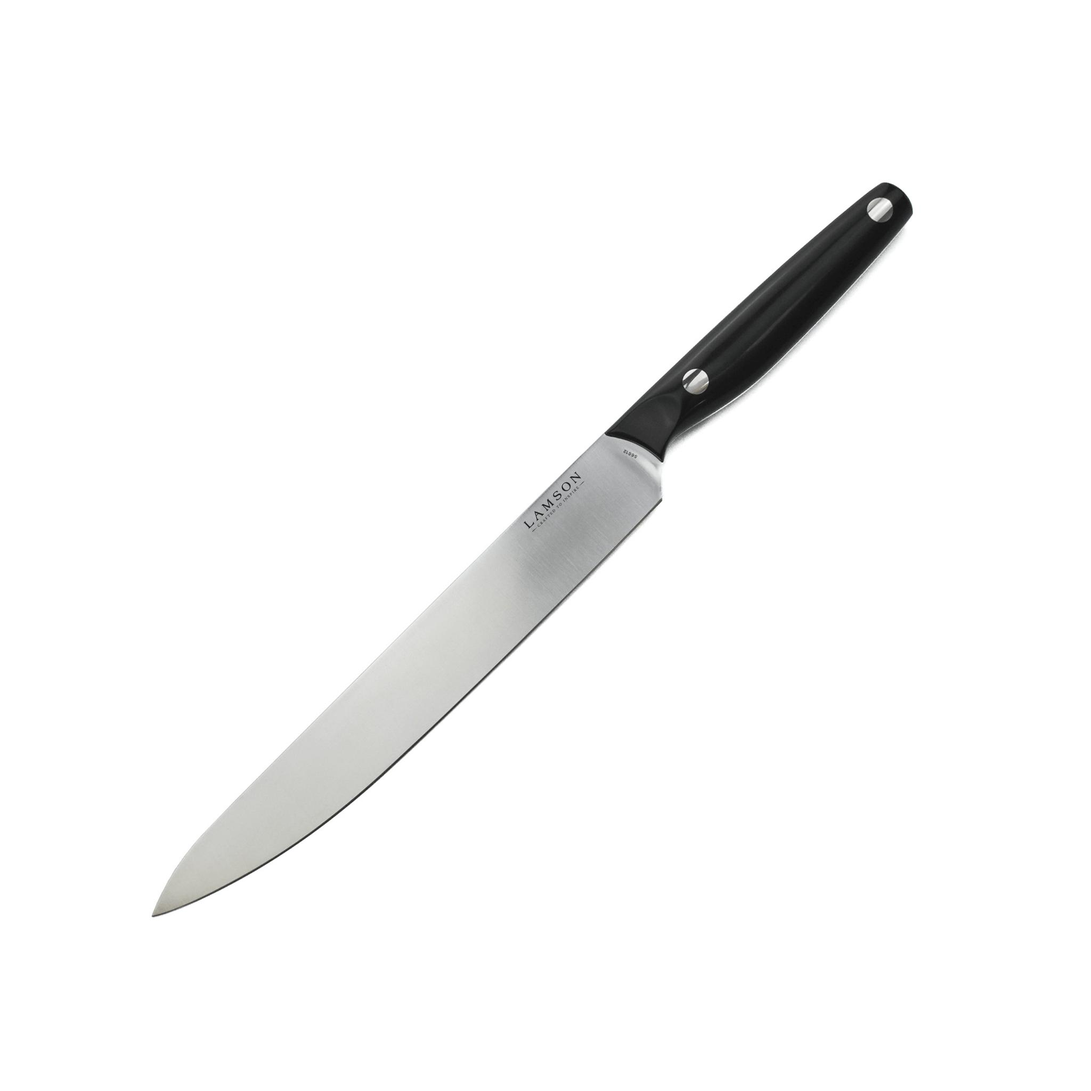Knife: (150, 181, 916, 918)
